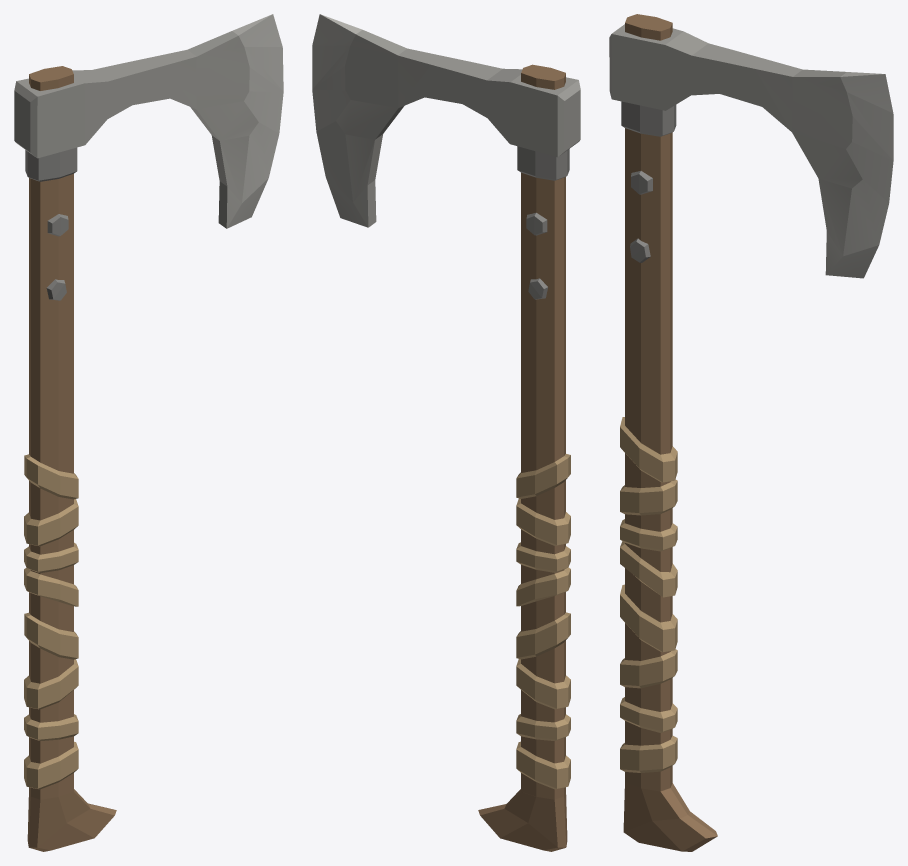
The model's file is SM_pwe_slavic_axe_02.fbx.
3 views of the same model, side by side, from view 1: azimuth 30°, elevation 25°; view 2: azimuth 150°, elevation 25°; view 3: azimuth 330°, elevation 25° (orthographic). The views are drawn at different scales.
Visible parts, largest first — view 1: SM_pwe_slavic_axe_02; view 2: SM_pwe_slavic_axe_02; view 3: SM_pwe_slavic_axe_02.
Part boxes in pixels (x1,y1,x2,y2): SM_pwe_slavic_axe_02: [14, 14, 283, 851]; SM_pwe_slavic_axe_02: [312, 14, 580, 851]; SM_pwe_slavic_axe_02: [609, 14, 893, 851].
Size of the model in its own units: 30.4 by 87.03 by 4.3.
